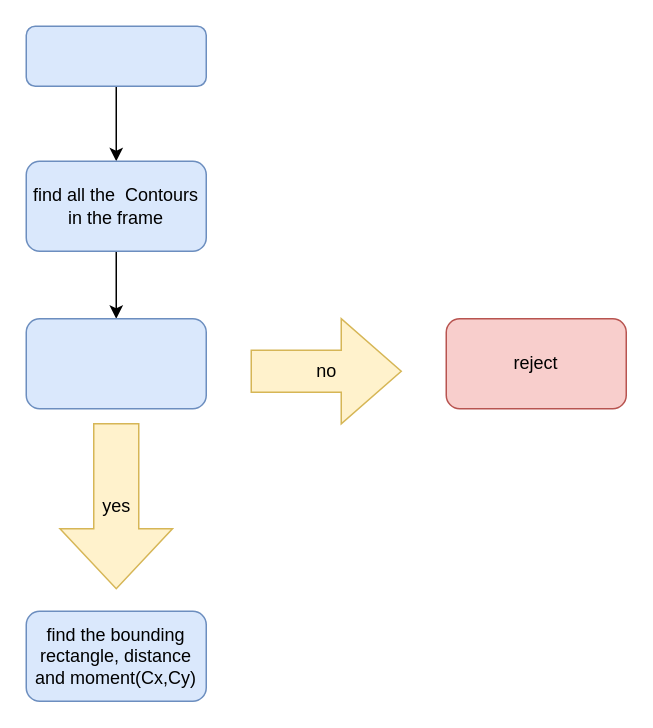
The diagram is 653 pixels wide and 728 high, and some of its shapes have lost their labels. Here are the shapes that lost their labels. From the top down, the centre of each, then its label:
At pixel 115 55: "apply mask on the frame".
At pixel 115 363: "countour area > 200".
